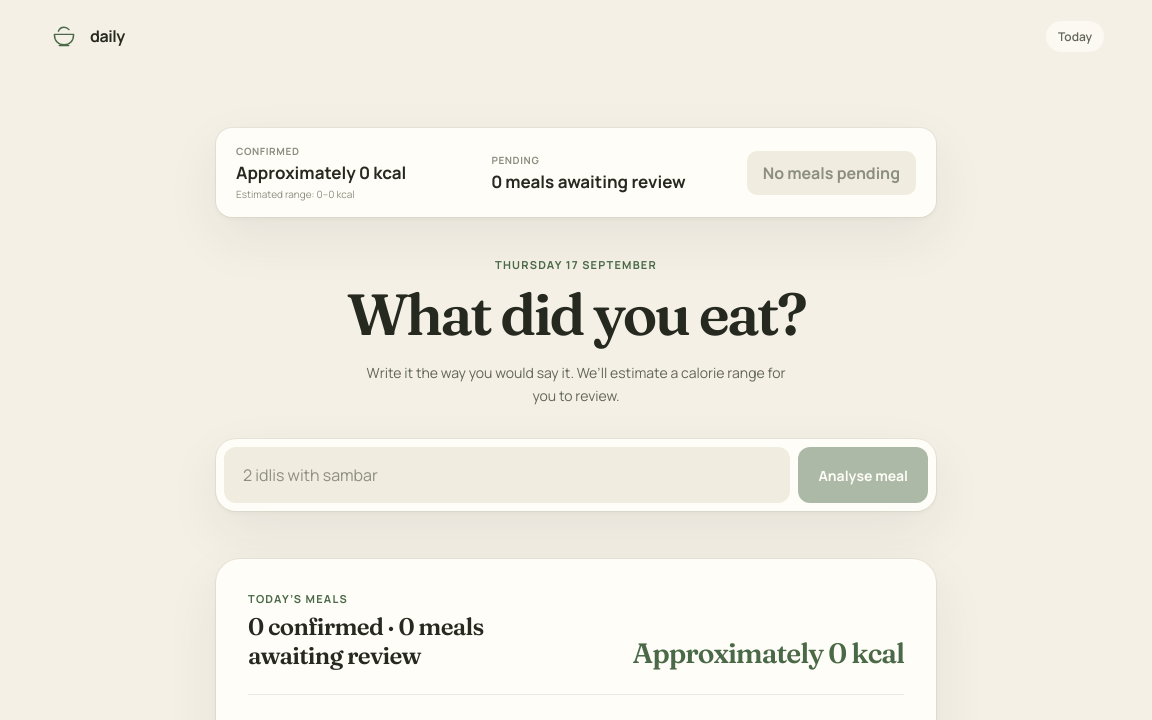
Test: Daily Meal Log V2 P0 › hides a redundant single-item subtotal and shows a combined multi-item total
Type "half bowl rice" into the field named "What did you eat?" at [507, 475], box [224, 447, 790, 503]
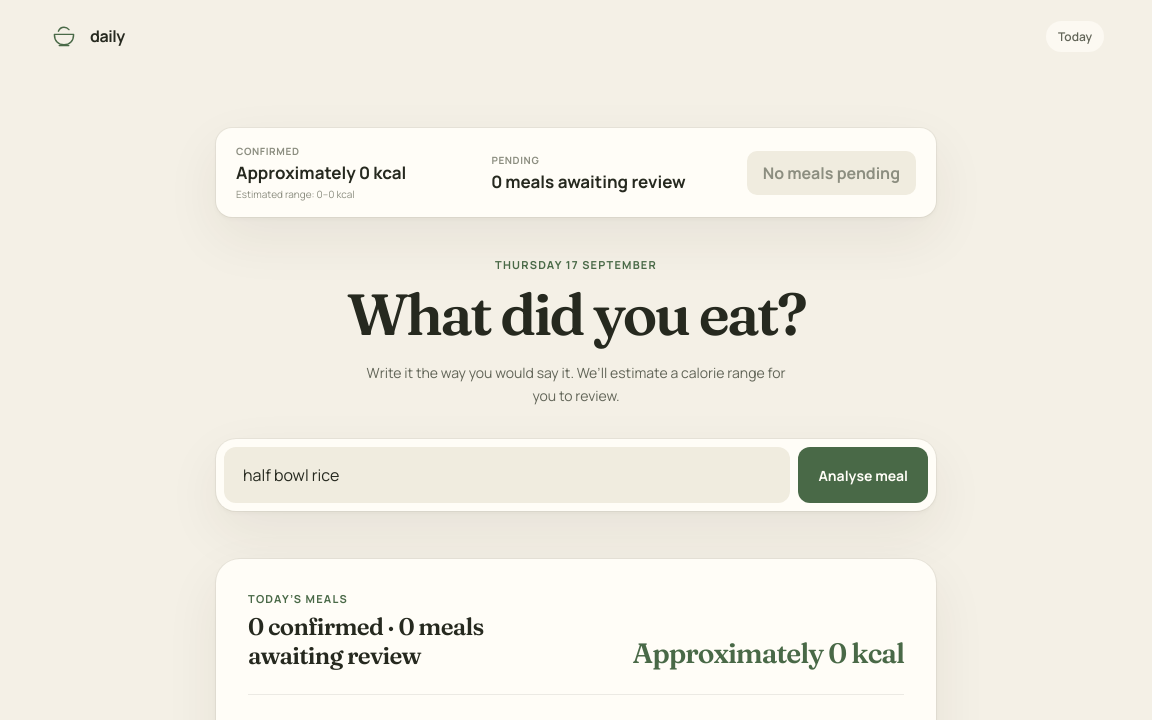
Click the button "Analyse meal" at [863, 475], box [798, 447, 928, 503]
(page scrolled)
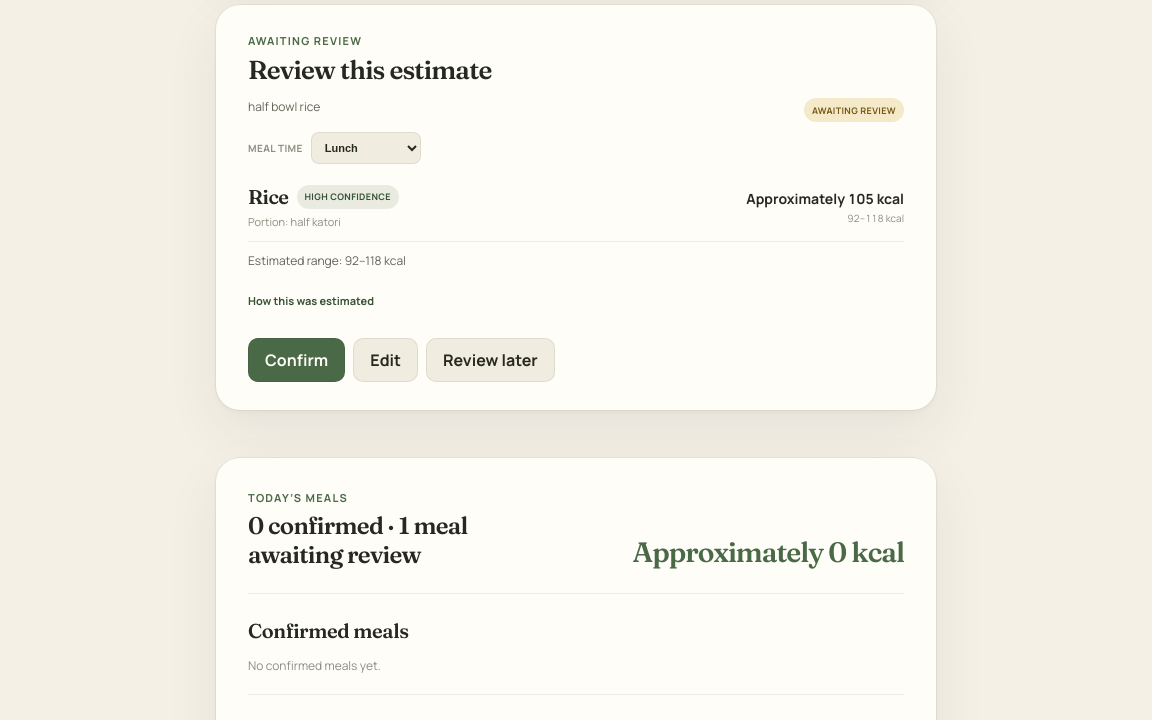
Expected: the text "Combined meal total" is not shown
Click the button "Review later" at [490, 360], box [426, 338, 555, 382]
(page scrolled)
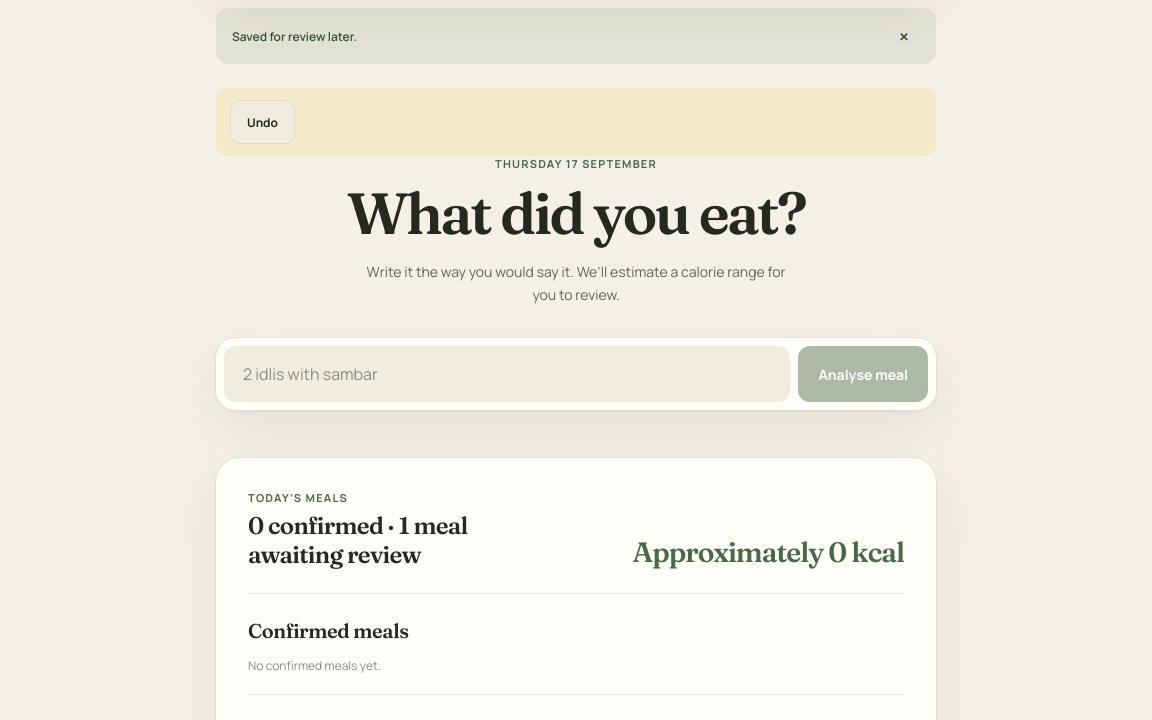
Type "2 idli with sambhar" into the field named "What did you eat?" at [507, 374], box [224, 346, 790, 402]
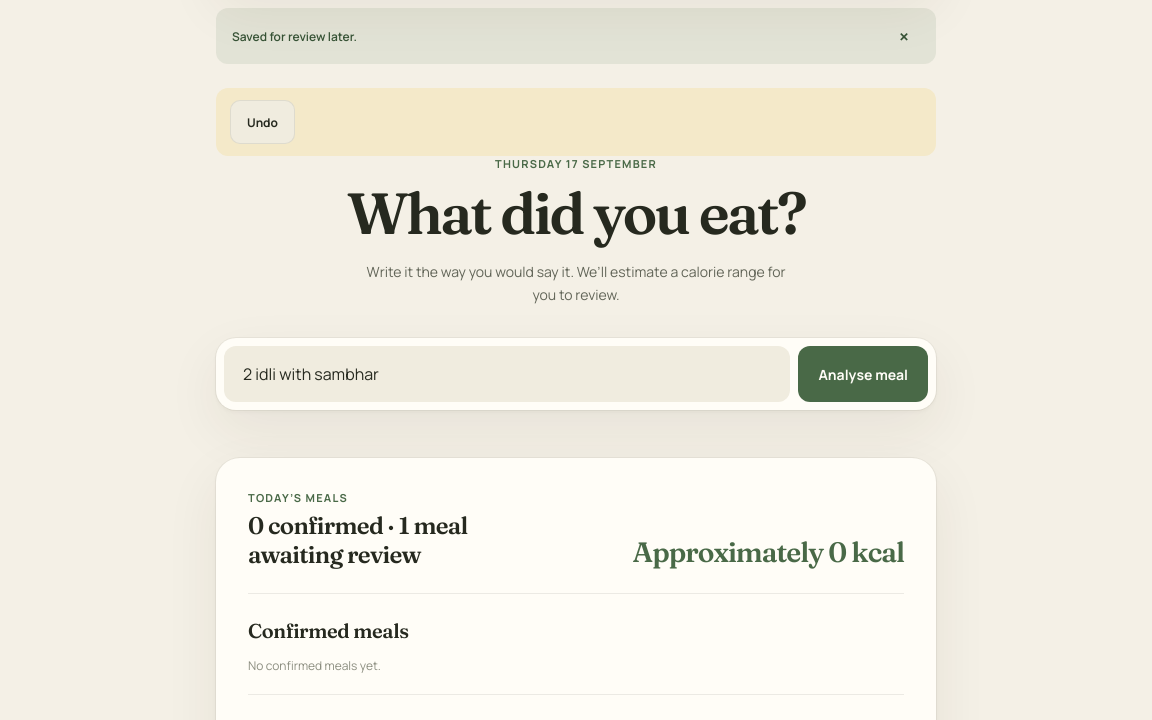
Click the button "Analyse meal" at [863, 374], box [798, 346, 928, 402]
(page scrolled)
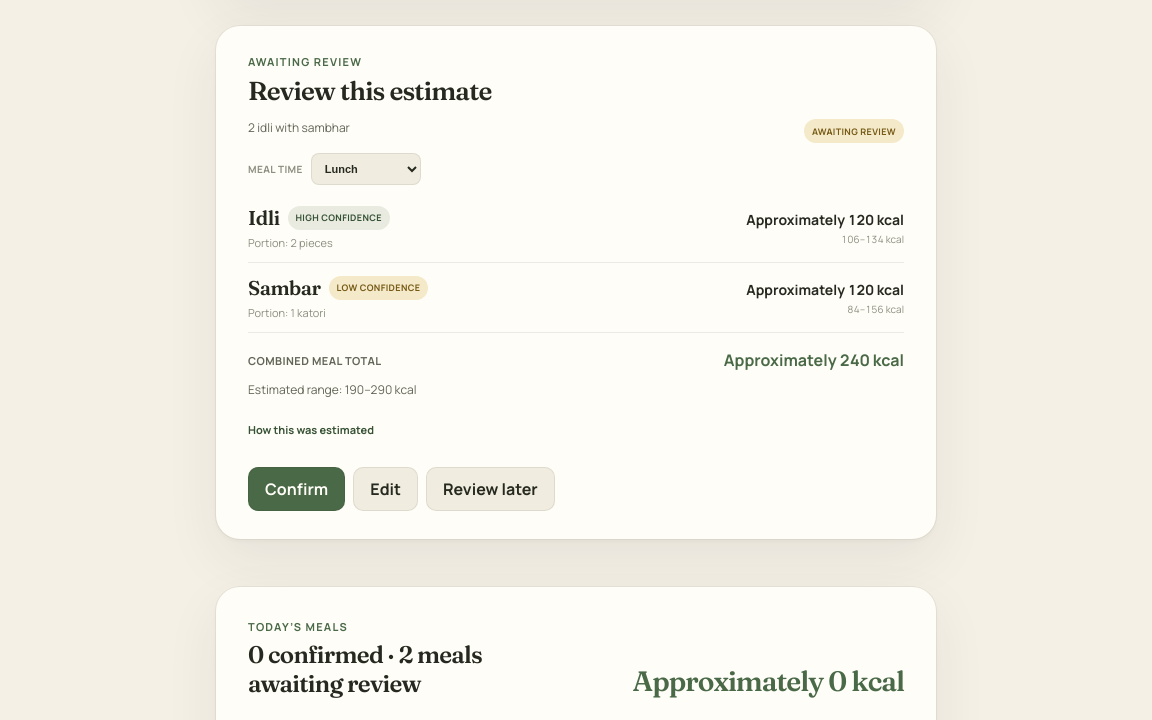
Expected: the text "Combined meal total" is shown, [248, 353, 382, 368]
